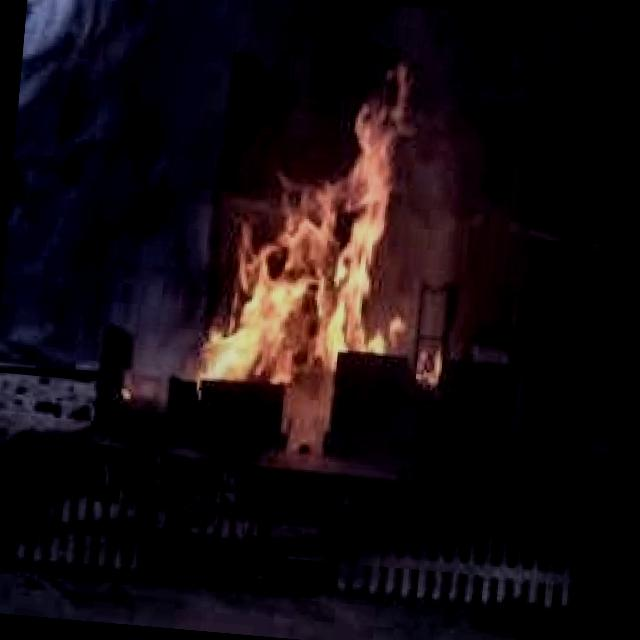fire: (174, 43, 447, 474)
